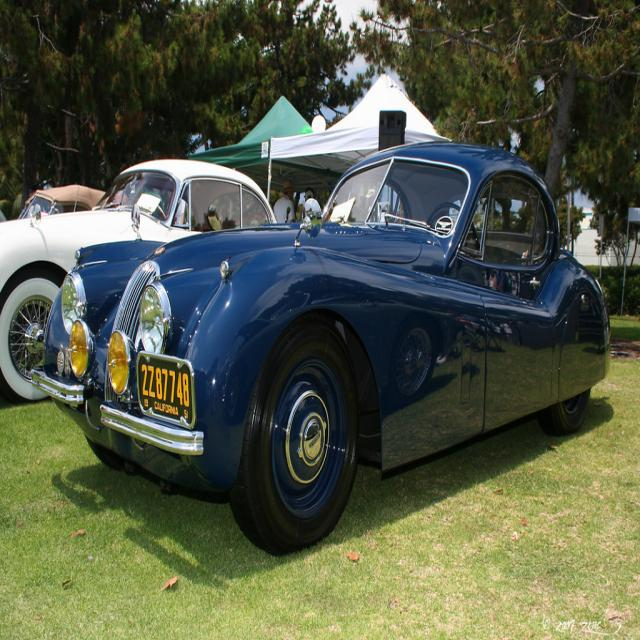car: (19, 131, 599, 536), (0, 156, 280, 403), (7, 177, 118, 219)
